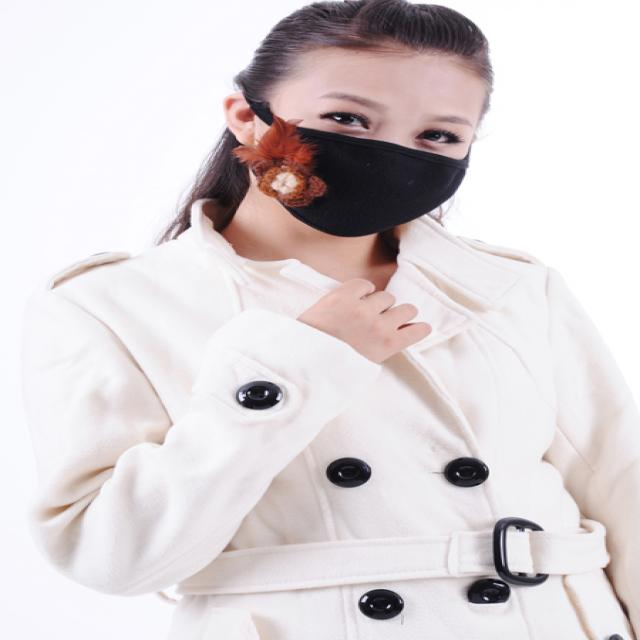mask: (256, 46, 481, 232)
